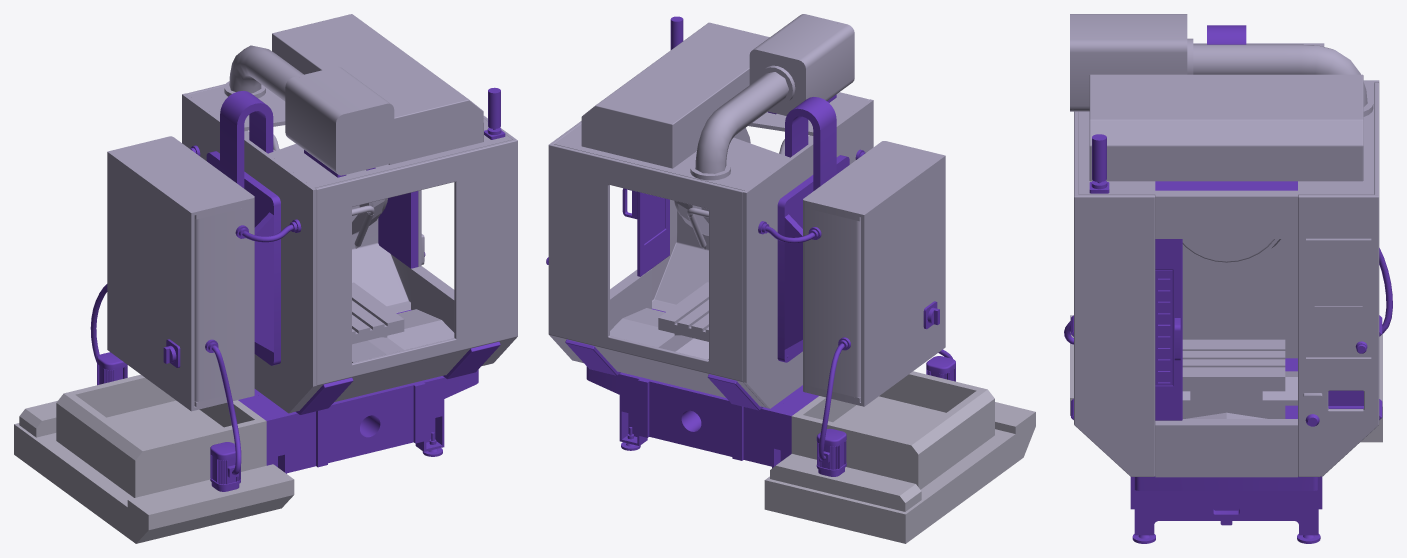
File: cnc.glb
3 views of the same model, side by side, from view 1: azimuth 30°, elevation 25°; view 2: azimuth 150°, elevation 25°; view 3: azimuth 270°, elevation 25° (orthographic). The views are drawn at different scales.
Parts seen in each view (by area): view 1: Cube.491, Cube.617, Cube.566, Cube.501, Cube.493, Cube.616, Cube.559, Cube.605, Cube.615, Cube.564, Cube.558, Cube.568 (+20 smaller); view 2: Cube.492, Cube.617, Cube.566, Cube.501, Cube.493, Cube.559, Cube.616, Cube.605, Cube.615, Cube.564, Cube.558, NurbsPath.012 (+21 smaller); view 3: Cube.501, Cube.491, Cube.492, Cube.603, Cube.494, Cube.564, Cube.495, Cube.604, Cube.597, NurbsPath.012, Cube.505, Cube.506 (+19 smaller).
Part boxes in pixels (x1,y1,x2,y2): Cube.491: (293, 116, 517, 412); Cube.617: (107, 155, 194, 408); Cube.566: (56, 374, 266, 497); Cube.501: (272, 14, 483, 164); Cube.493: (182, 93, 316, 413); Cube.616: (194, 205, 254, 401); Cube.559: (17, 400, 291, 542); Cube.605: (254, 381, 423, 473); Cube.615: (107, 136, 254, 219); Cube.564: (287, 68, 388, 172); Cube.558: (14, 423, 151, 543); Cube.568: (334, 102, 394, 175); Cube.492: (548, 121, 765, 407); Cube.617: (861, 159, 945, 403); Cube.566: (791, 371, 994, 489); Cube.501: (581, 22, 769, 168); Cube.493: (743, 99, 873, 408); Cube.559: (767, 402, 1032, 543); Cube.616: (803, 207, 860, 397); Cube.605: (640, 377, 802, 466); Cube.615: (803, 141, 945, 221); Cube.564: (754, 15, 852, 100); Cube.558: (903, 411, 1035, 543); NurbsPath.012: (695, 72, 788, 173); Cube.501: (1089, 74, 1363, 181); Cube.491: (1074, 111, 1155, 476); Cube.492: (1298, 82, 1379, 476); Cube.603: (1182, 239, 1285, 339); Cube.494: (1155, 419, 1297, 477); Cube.564: (1074, 14, 1183, 111); Cube.495: (1155, 190, 1297, 238); Cube.604: (1134, 490, 1318, 535); Cube.597: (1182, 339, 1285, 391); NurbsPath.012: (1193, 44, 1367, 106); Cube.505: (1306, 238, 1371, 357); Cube.506: (1311, 245, 1365, 309).
Bounding box in the file's own units: 2.61 × 2.57 × 1.68.
